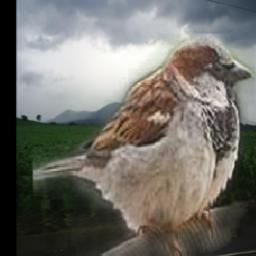Sparrow: (32, 34, 254, 256)
